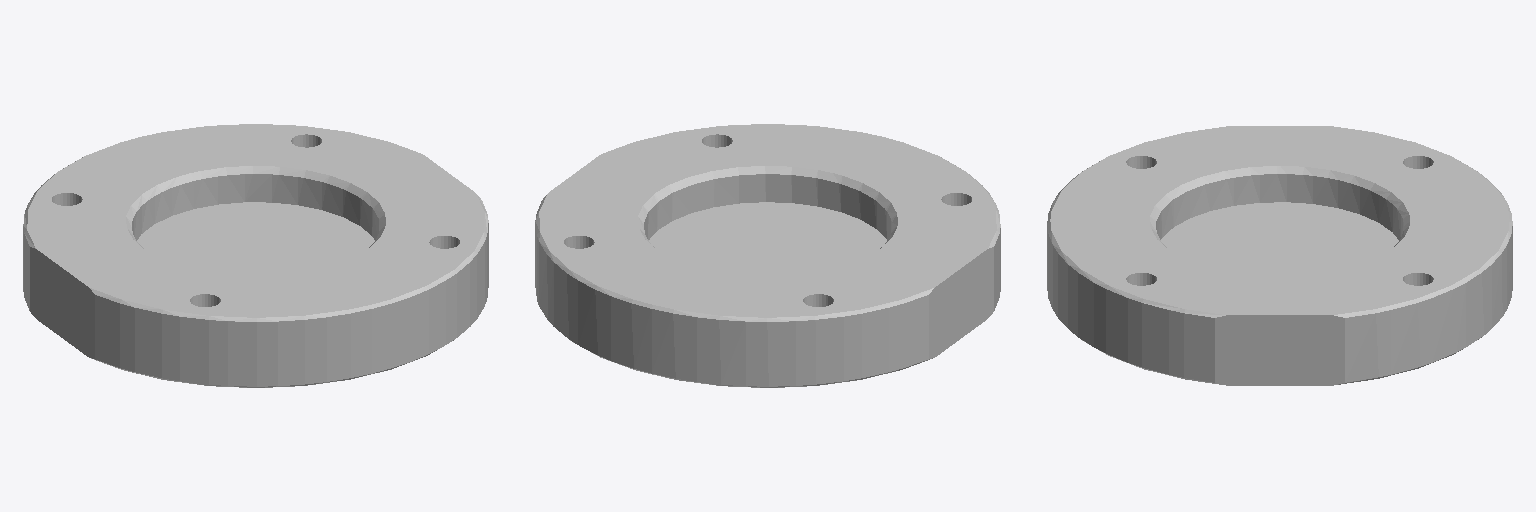
The picture shows the model from 3 angles: view 1: azimuth 30°, elevation 25°; view 2: azimuth 150°, elevation 25°; view 3: azimuth 270°, elevation 25°; orthographic projection.
Visible parts, largest first — view 1: transform5; view 2: transform5; view 3: transform5.
Part boxes in pixels (x1,y1,x2,y2): transform5: (23,124,488,387); transform5: (535,124,1000,387); transform5: (1047,126,1512,385).
Size of the model in its own units: 7.09 by 1.23 by 7.38.